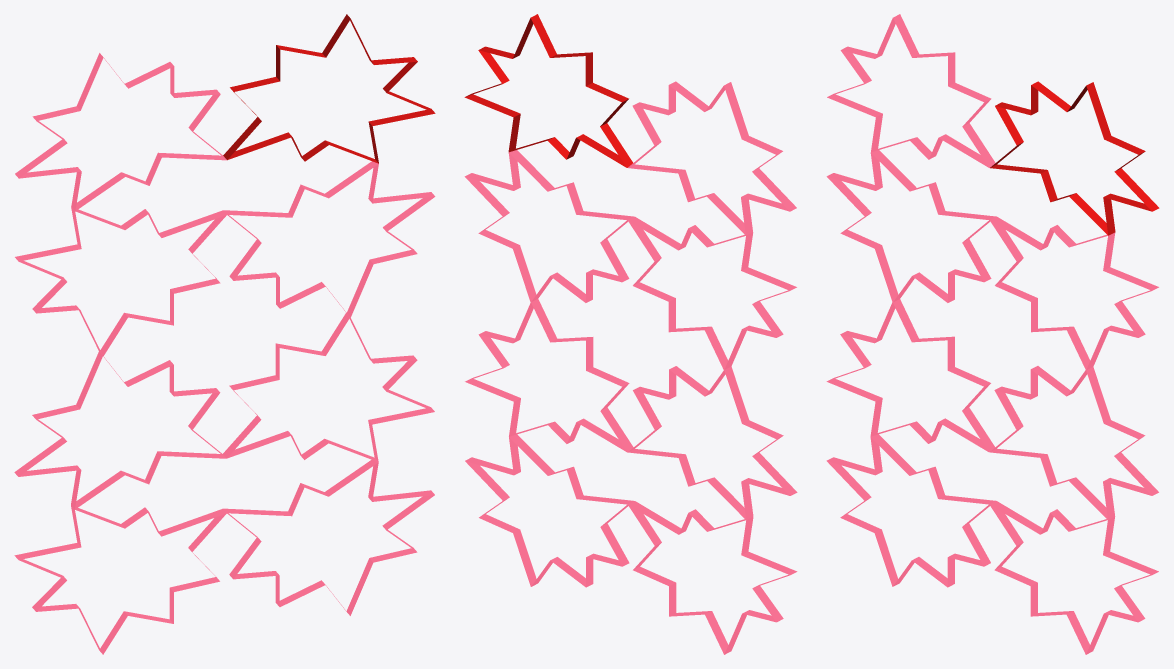
File: Stern3.0_Break_Dancer_fertig8.glb
3 views of the same model, side by side, from view 1: azimuth 30°, elevation 25°; view 2: azimuth 150°, elevation 25°; view 3: azimuth 330°, elevation 25° (orthographic). The views are drawn at different scales.
Visible parts, largest first — view 1: Cube.001, Cube.007, Cube.006, Cube.004, Cube.009, Cube.002, Cube.005, Cube.003; view 2: Cube.007, Cube.006, Cube.001, Cube.004, Cube.005, Cube.009, Cube.003, Cube.002; view 3: Cube.002, Cube.009, Cube.003, Cube.005, Cube.006, Cube.007, Cube.001, Cube.004.
Boxes of the visible parts, x1=… form: Cube.001: x1=14, y1=351, x2=226, y2=509; Cube.007: x1=15, y1=53, x2=226, y2=210; Cube.006: x1=223, y1=459, x2=434, y2=615; Cube.004: x1=223, y1=161, x2=435, y2=317; Cube.009: x1=223, y1=14, x2=435, y2=163; Cube.002: x1=223, y1=313, x2=434, y2=461; Cube.005: x1=14, y1=505, x2=226, y2=654; Cube.003: x1=15, y1=207, x2=226, y2=356; Cube.007: x1=628, y1=81, x2=796, y2=235; Cube.006: x1=465, y1=434, x2=633, y2=587; Cube.001: x1=628, y1=366, x2=797, y2=519; Cube.004: x1=464, y1=150, x2=633, y2=302; Cube.005: x1=628, y1=501, x2=797, y2=654; Cube.009: x1=464, y1=14, x2=632, y2=167; Cube.003: x1=627, y1=216, x2=796, y2=369; Cube.002: x1=465, y1=299, x2=633, y2=452; Cube.002: x1=990, y1=366, x2=1158, y2=519; Cube.009: x1=990, y1=81, x2=1159, y2=235; Cube.003: x1=826, y1=150, x2=995, y2=302; Cube.005: x1=826, y1=434, x2=995, y2=587; Cube.006: x1=989, y1=501, x2=1158, y2=654; Cube.007: x1=827, y1=14, x2=995, y2=167; Cube.001: x1=826, y1=299, x2=995, y2=452; Cube.004: x1=989, y1=216, x2=1158, y2=370.
Bounding box in the file's own units: 1.85 × 2.76 × 0.3644.
